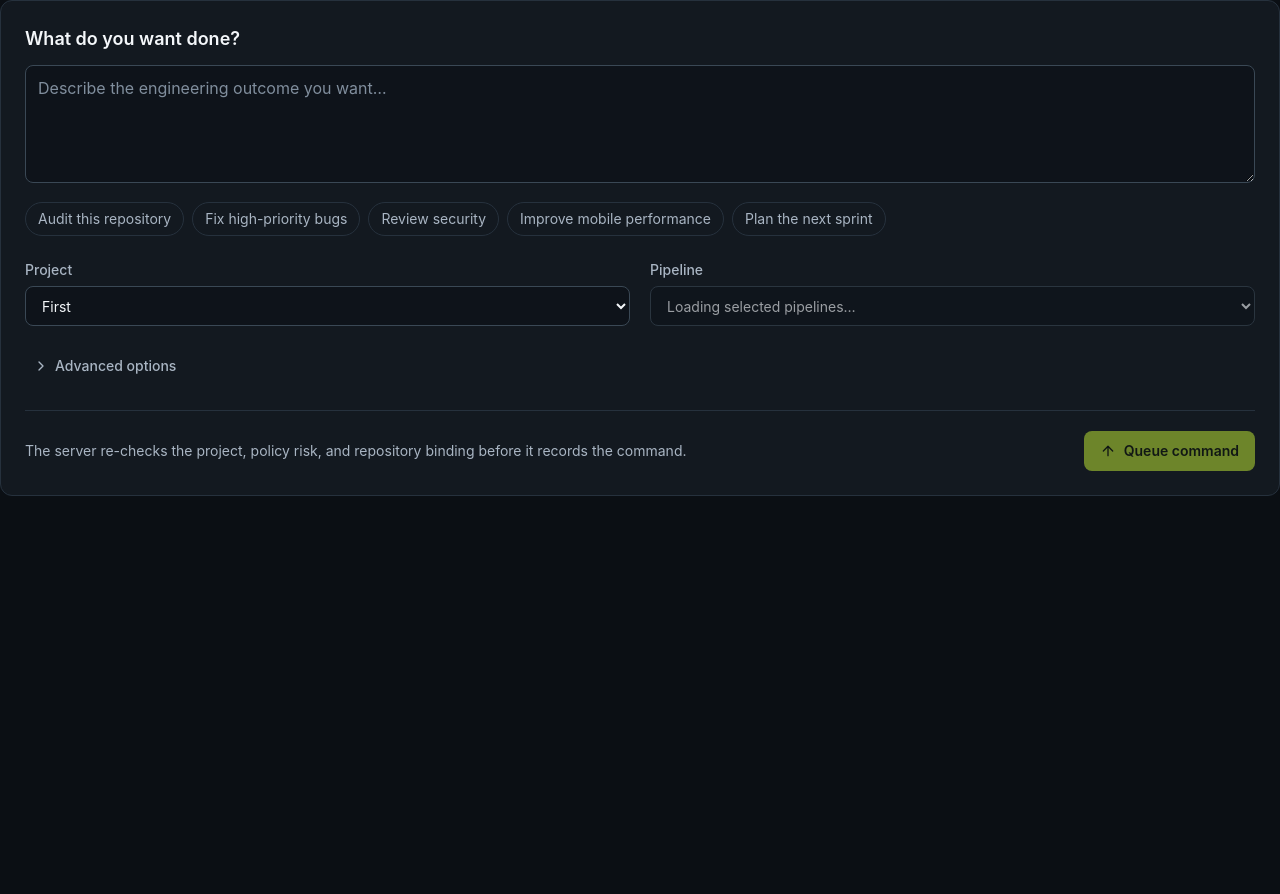
it: CommandComposer › clears project-scoped choices and ignores a late pipeline read after switching projects
The image size is (1280, 894).
Click the button "Advanced options": (105, 366) x1=25 y1=346 x2=184 y2=386
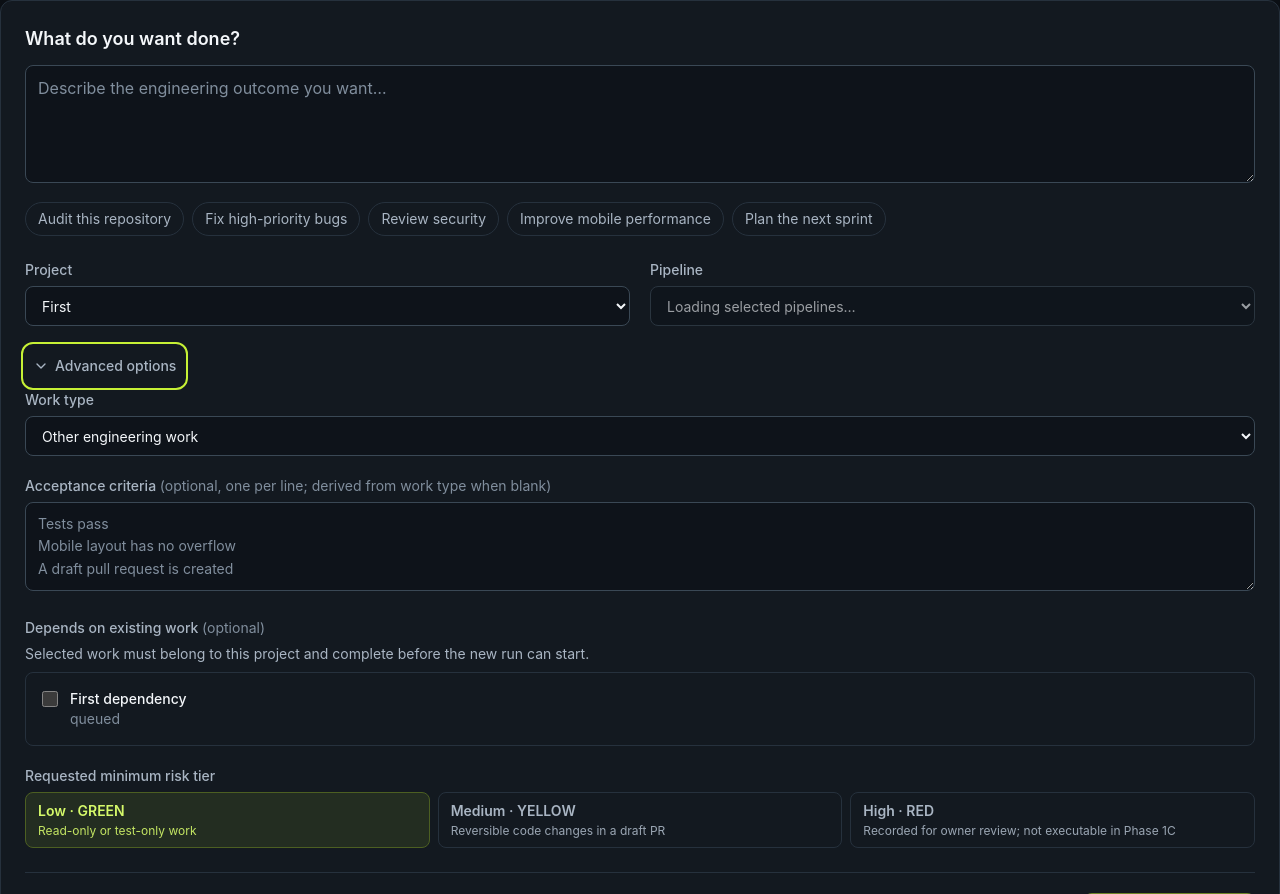
Click the checkbox labelled "First dependency queued": (50, 699) x1=42 y1=691 x2=58 y2=707
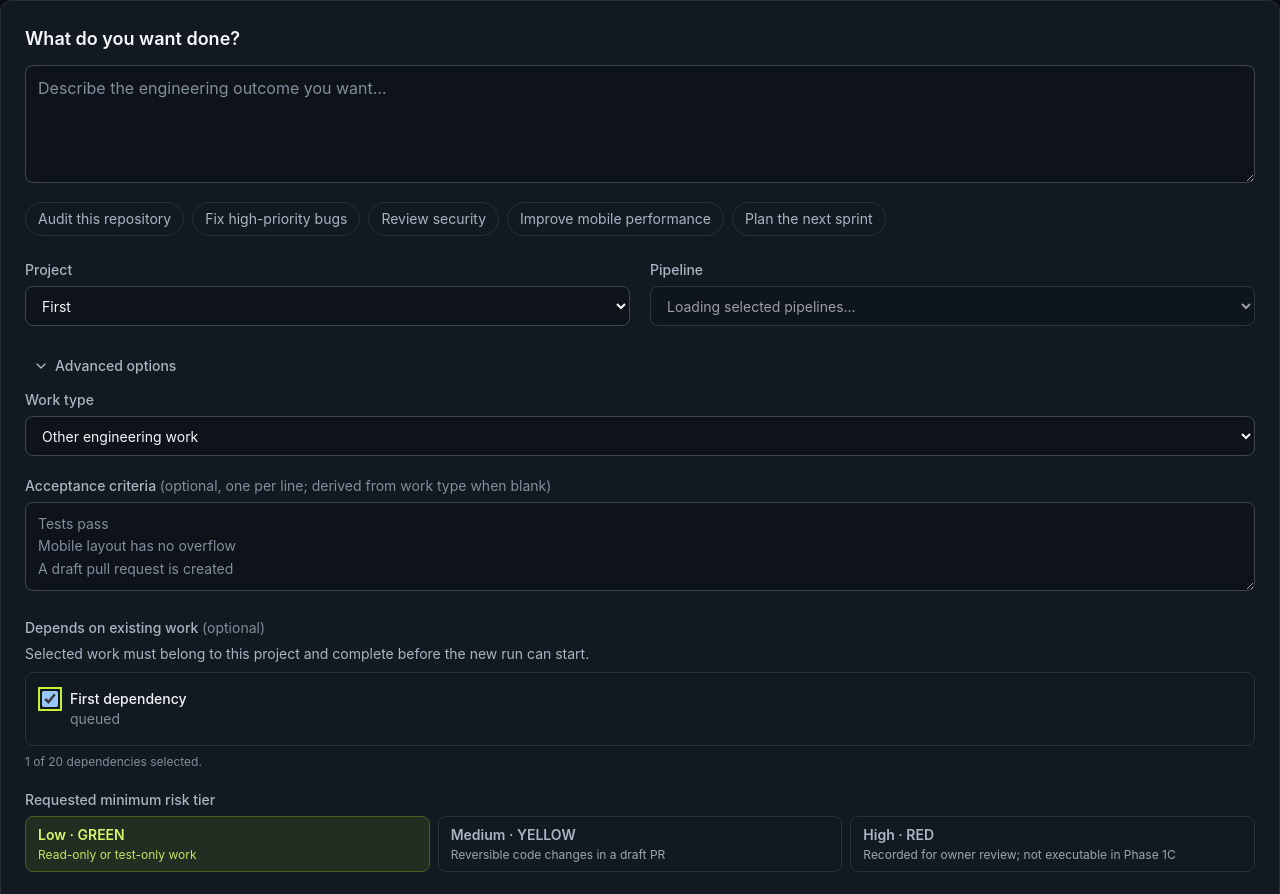
Check: the text "1 of 20 dependencies selected." is shown, box x1=25 y1=754 x2=202 y2=769
Select "Second" in the dropdown labelled "Project": (328, 306) x1=25 y1=286 x2=630 y2=326
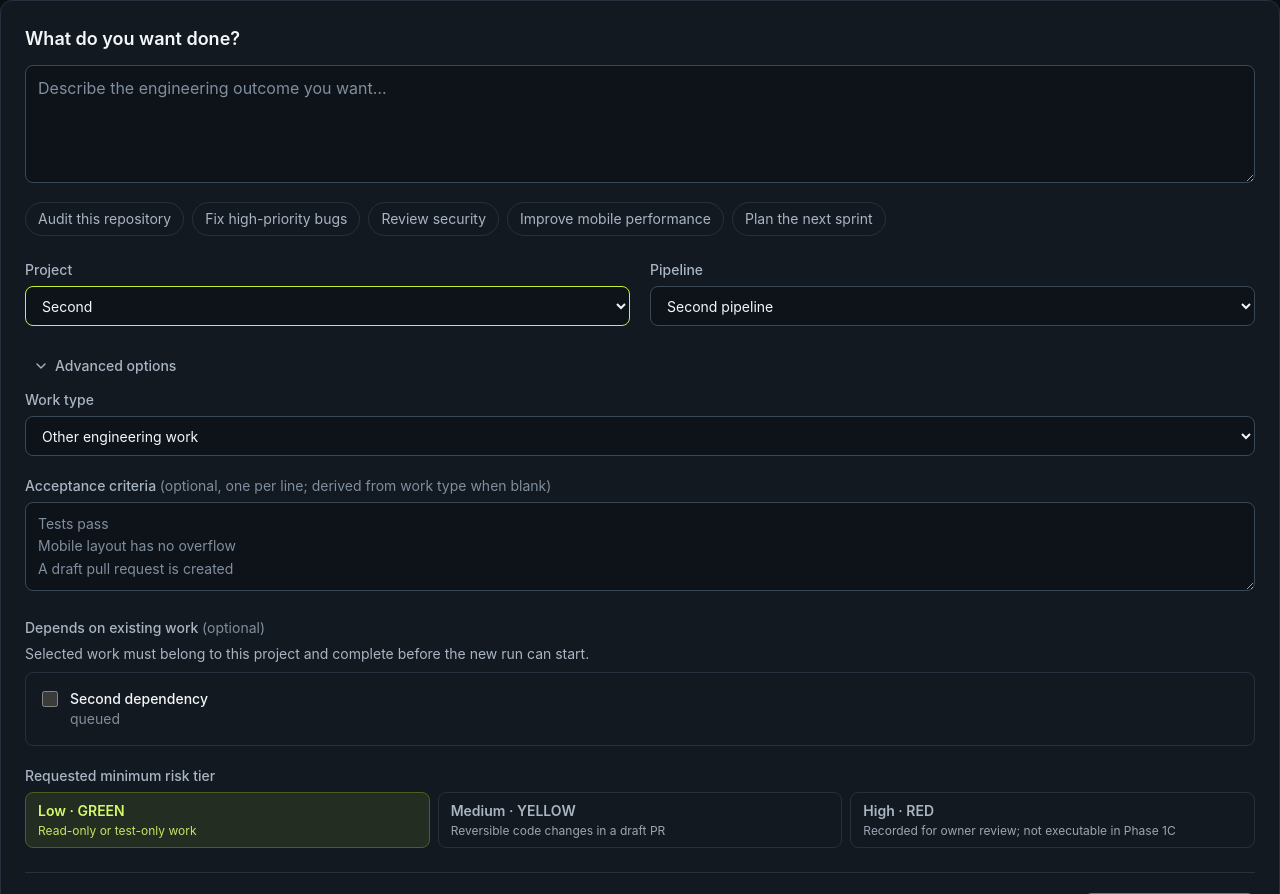
Check: the checkbox labelled "Second dependency queued" is not checked, box x1=42 y1=691 x2=58 y2=707
Check: the text "1 of 20 dependencies selected." is gone
Check: the dropdown labelled "Pipeline" shows "Second pipeline", box x1=650 y1=286 x2=1255 y2=326
